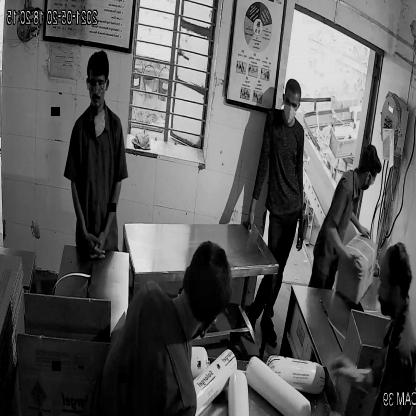goggles: (84, 73, 110, 95)
no_goggles: (282, 97, 301, 109)
